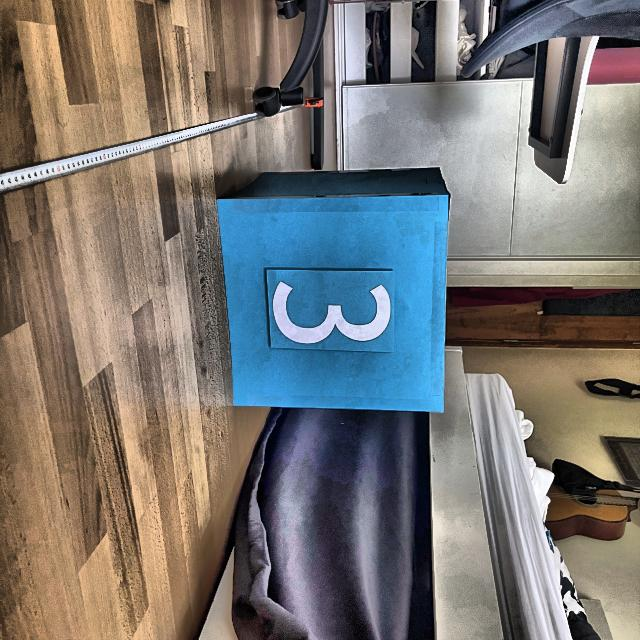blue box: (218, 159, 450, 419)
three: (267, 274, 396, 352)
